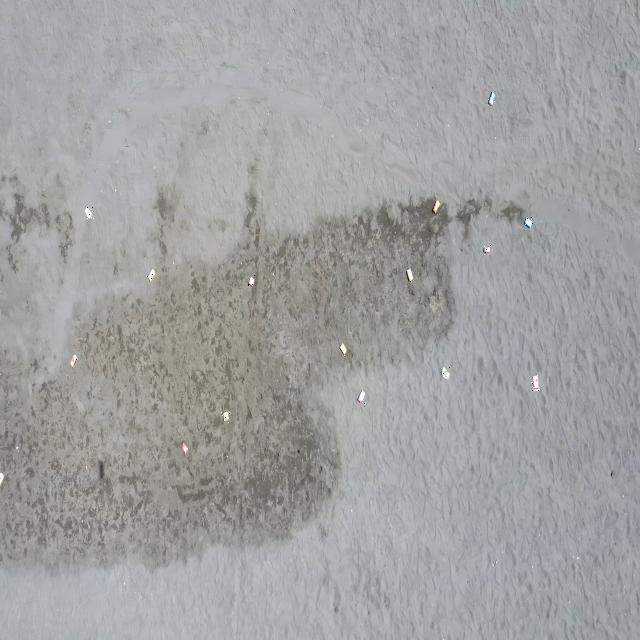Garbage: (68, 353, 76, 367), (356, 390, 364, 404), (532, 375, 539, 390), (487, 91, 495, 104), (432, 199, 440, 212), (440, 367, 448, 379), (98, 460, 103, 479), (180, 440, 187, 453), (524, 216, 532, 227), (406, 267, 412, 281), (340, 343, 347, 355), (148, 268, 155, 280), (84, 207, 91, 218), (247, 276, 253, 286), (221, 412, 228, 420), (0, 472, 4, 484), (483, 244, 489, 252)
